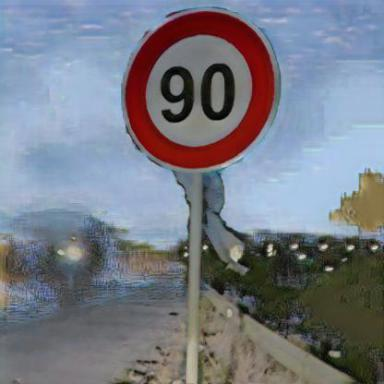Speed_limit_90: (124, 14, 278, 168)
